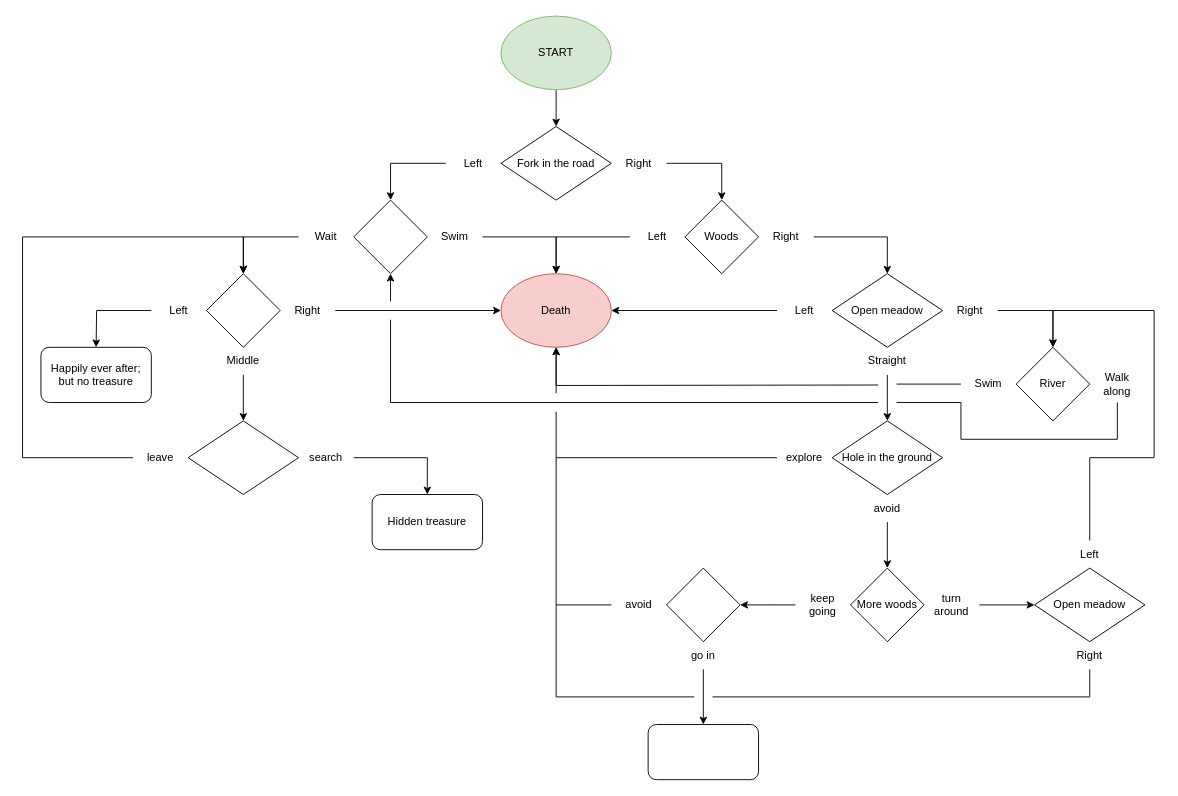
This 1178x796 diagram has some shape labels left out. Here are the shapes that lost their labels. From the top down, the box of each, then its label:
(353, 199, 427, 274): Lake
(206, 273, 280, 347): 3 houses
(187, 420, 299, 494): Seems empty
(666, 567, 740, 642): Cabin
(647, 724, 759, 780): Full of treasure!
